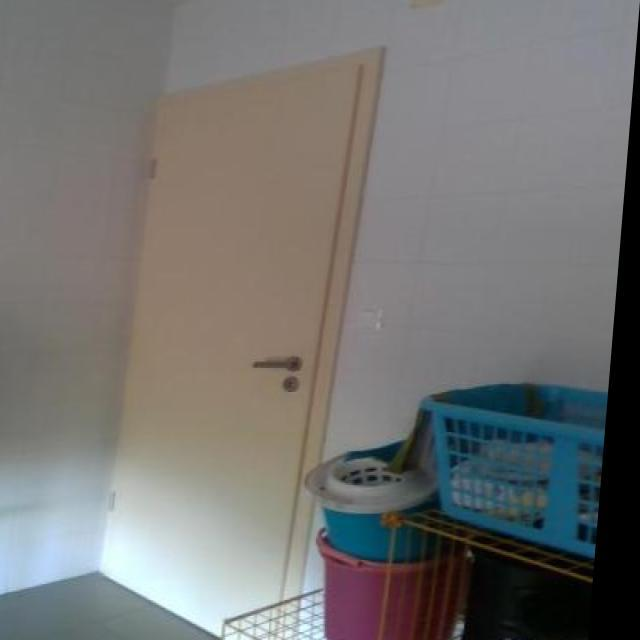door_handle: (253, 352, 308, 374)
